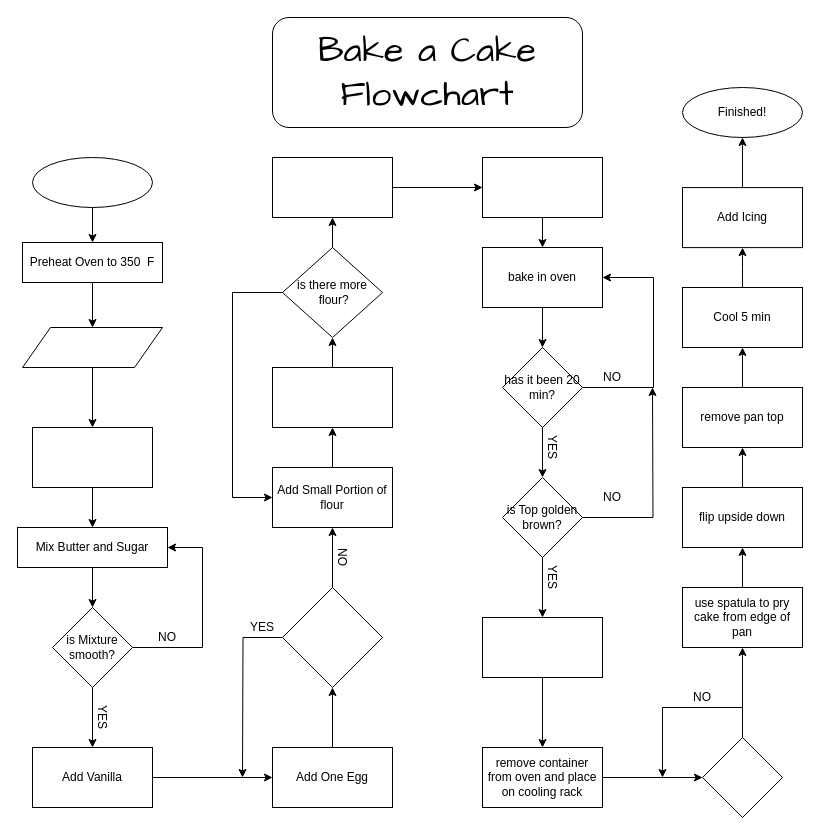
The diagram is 820 pixels wide and 835 high, and some of its shapes have lost their labels. Here are the shapes that lost their labels. From the top down, the centre of each, then its label:
the point at 92,182: Start
the point at 332,187: Beat until smooth
the point at 542,187: Add Batter to containers
the point at 92,347: Get Ingredients
the point at 332,397: Add small portion of cream/milk
the point at 92,457: combine Flour, baking soda, & salt
the point at 332,637: is there another egg?
the point at 542,647: turn off oven
the point at 742,777: has 10 min passed?
